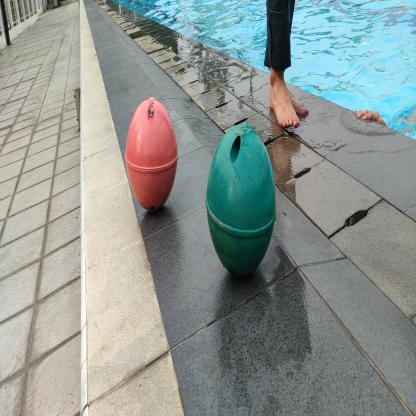green_buoy: (205, 123, 278, 281)
red_buoy: (123, 95, 180, 215)
